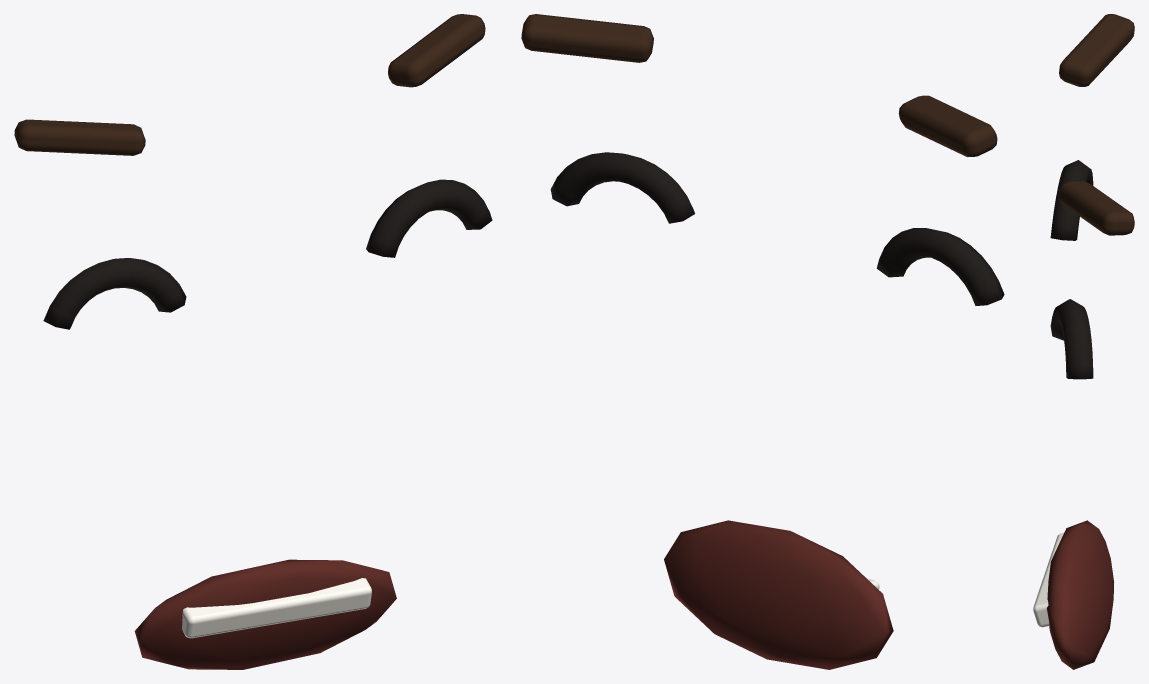
The model's file is 09-sunshine.glb.
3 renders of one model, left to right at view 1: azimuth 30°, elevation 25°; view 2: azimuth 150°, elevation 25°; view 3: azimuth 270°, elevation 25°, orthographic. The views are drawn at different scales.
Parts seen in each view (by area): view 1: Face09_MouthOpen, Face09_Teeth, Face09_EyeClosed-1, Face09_EyeClosed1, Face09_Brow-1, Face09_Brow1; view 2: Face09_MouthOpen, Face09_EyeClosed1, Face09_Brow1, Face09_EyeClosed-1, Face09_Brow-1; view 3: Face09_MouthOpen, Face09_Brow-1, Face09_Brow1, Face09_EyeClosed1, Face09_EyeClosed-1, Face09_Teeth.
Boxes of the visible parts, x1=… form: Face09_MouthOpen: x1=134, y1=559, x2=396, y2=669; Face09_Teeth: x1=182, y1=578, x2=371, y2=638; Face09_EyeClosed-1: x1=43, y1=258, x2=186, y2=329; Face09_EyeClosed1: x1=366, y1=179, x2=492, y2=257; Face09_Brow-1: x1=14, y1=119, x2=145, y2=155; Face09_Brow1: x1=388, y1=14, x2=485, y2=87; Face09_MouthOpen: x1=664, y1=520, x2=893, y2=669; Face09_EyeClosed1: x1=550, y1=152, x2=694, y2=223; Face09_Brow1: x1=521, y1=14, x2=653, y2=62; Face09_EyeClosed-1: x1=876, y1=228, x2=1004, y2=305; Face09_Brow-1: x1=898, y1=95, x2=997, y2=157; Face09_MouthOpen: x1=1046, y1=520, x2=1114, y2=669; Face09_Brow-1: x1=1059, y1=14, x2=1134, y2=86; Face09_Brow1: x1=1059, y1=181, x2=1134, y2=235; Face09_EyeClosed1: x1=1050, y1=299, x2=1093, y2=379; Face09_EyeClosed-1: x1=1050, y1=160, x2=1093, y2=240; Face09_Teeth: x1=1033, y1=532, x2=1063, y2=627.
Size of the model in its own units: 0.2686 by 0.3247 by 0.056.
